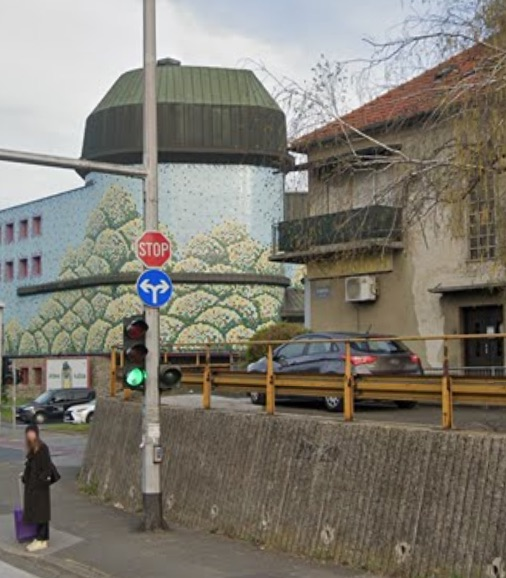Obavezno zaustavljanje: (136, 231, 172, 269)
